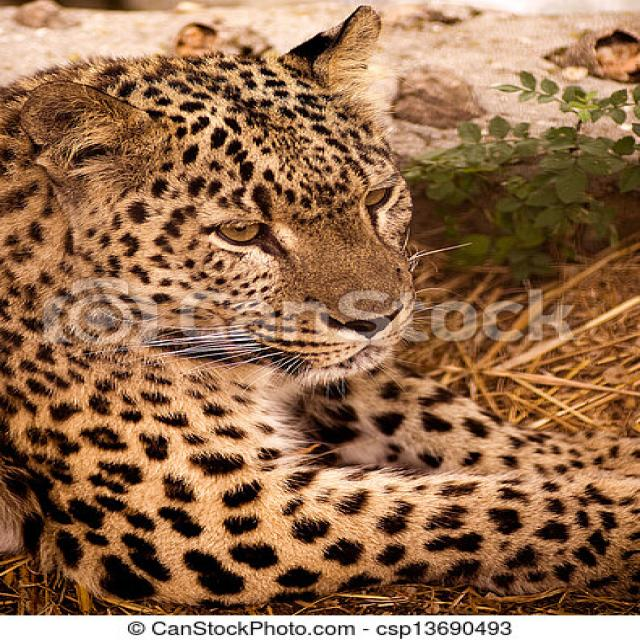Jaguar: (0, 4, 640, 608)
